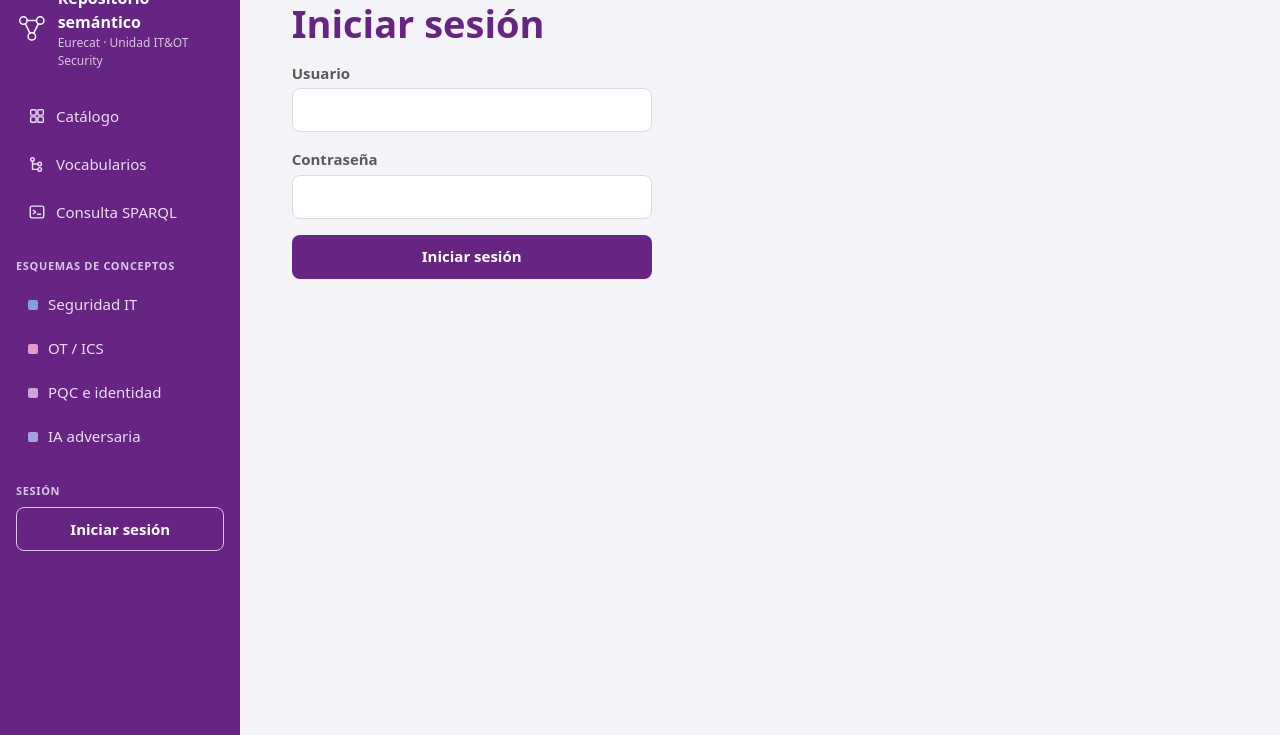
Test: Navegador SKOS · CRUD del esquema (decisión 50) › error de la edición: 422 replacement y 403 not_managed
This screenshot has width=1280, height=735.
Type "usuario-prueba" into the field labelled "Usuario" at x=472, y=110, box [292,88,652,132]
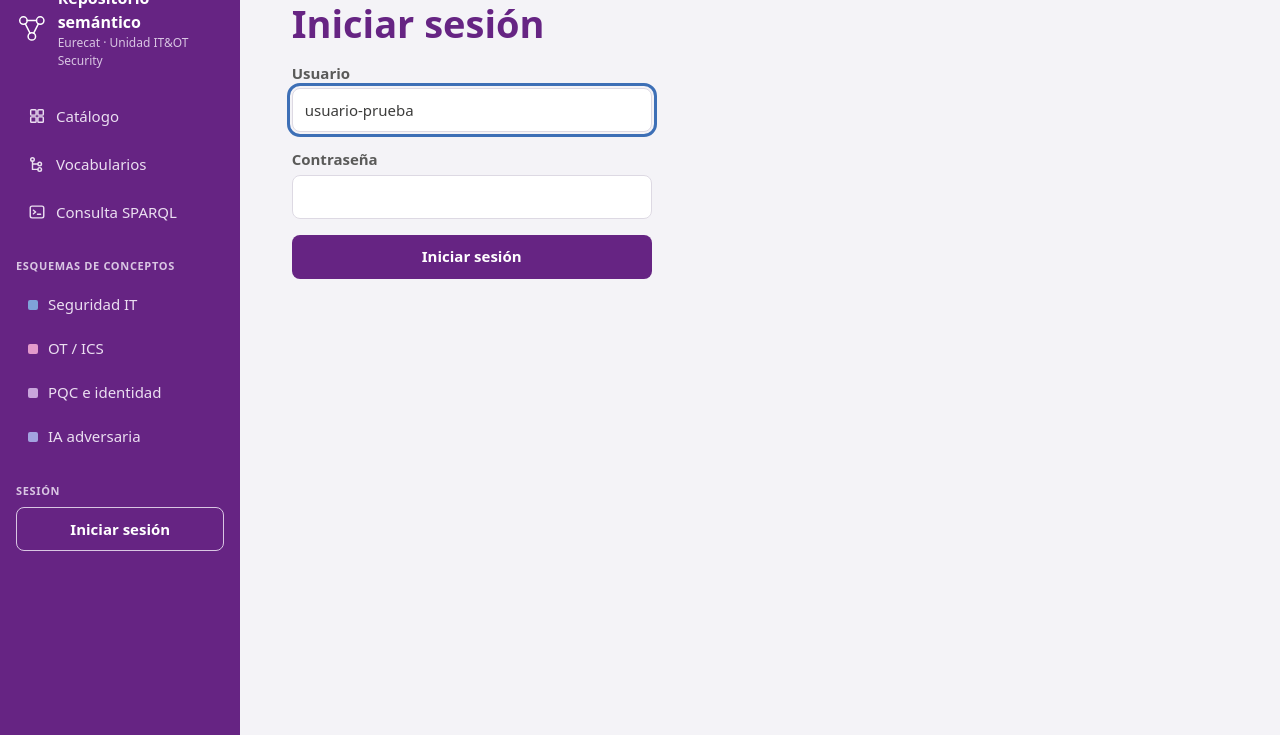
Type "contrasena-prueba" into the password field labelled "Contraseña" at x=472, y=197, box [292,175,652,219]
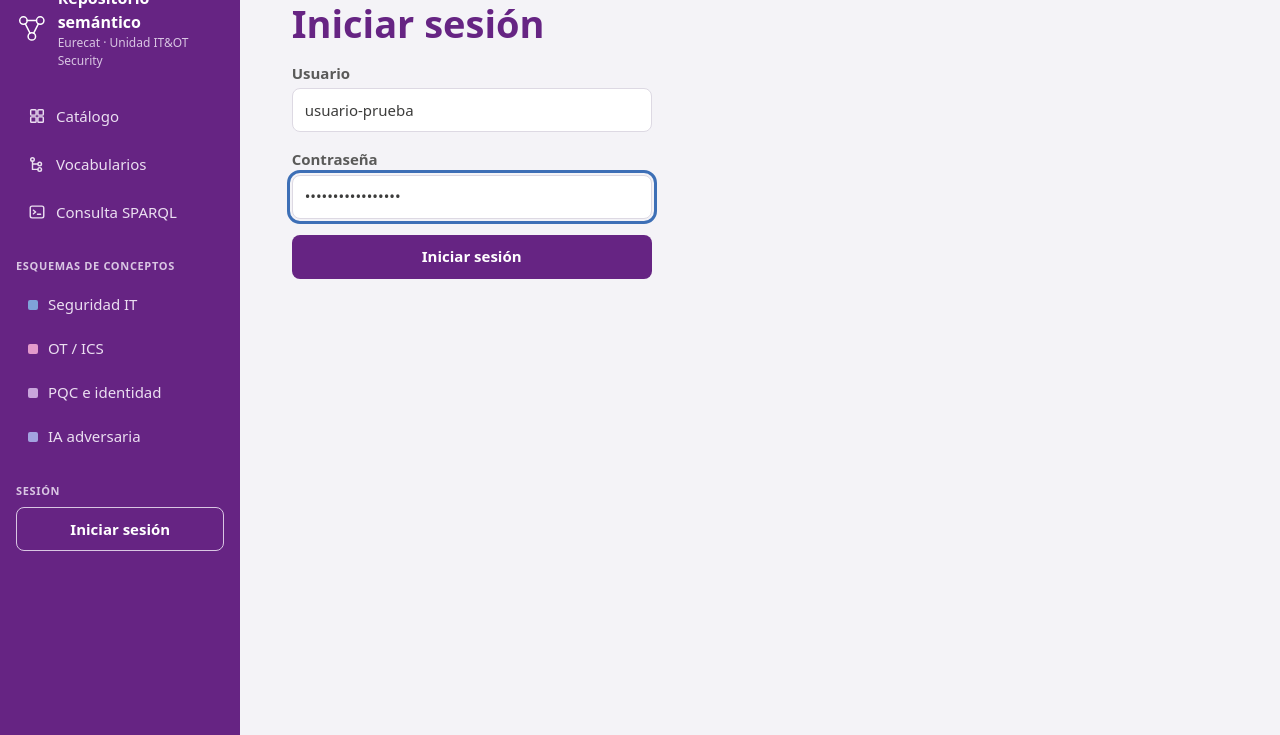
Click the button "Iniciar sesión" at x=472, y=257, box [292,235,652,279]
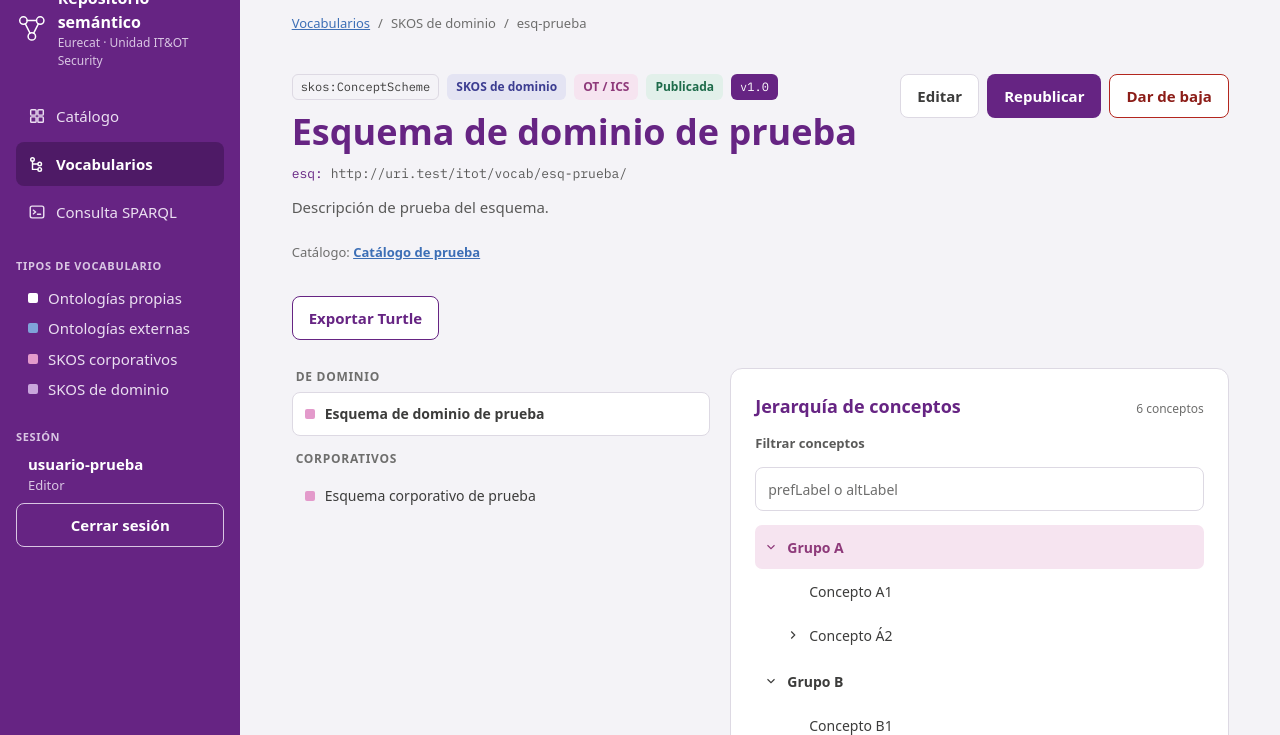
Now the button "Cerrar sesión" is shown, box [16,503,224,547]
Now the heading "Esquema de dominio de prueba" is shown, box [292,112,857,152]
Click the button "Editar" at x=940, y=96, box [900,74,979,118]
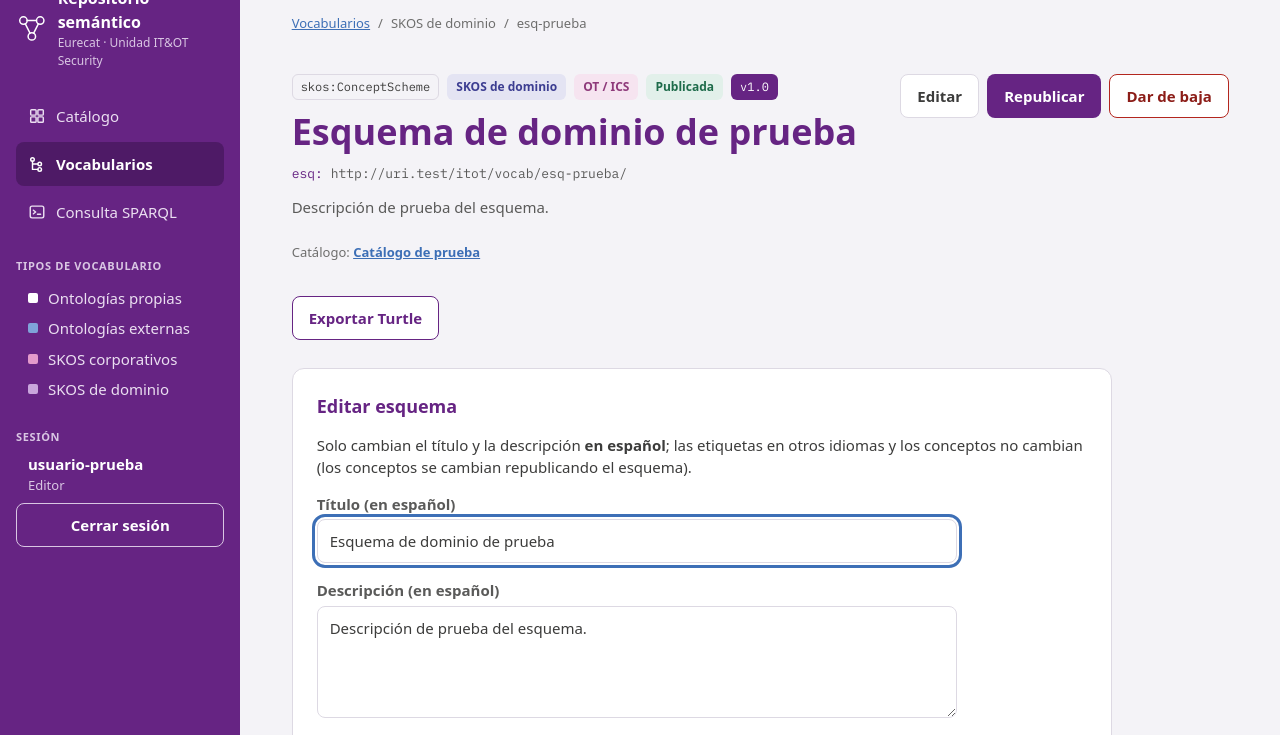
Type " 2" into the field labelled "Título (en español)" at x=637, y=541, box [317,519,957,563]
(page scrolled)
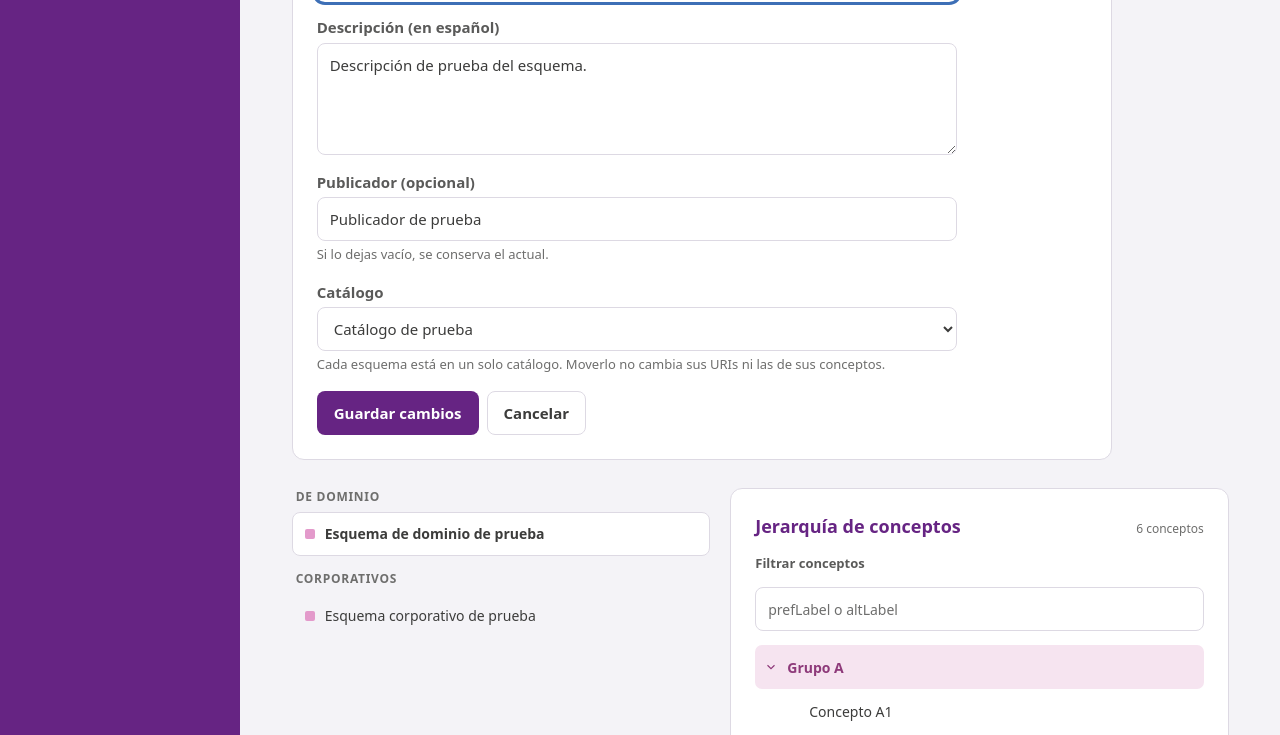
Click the button "Guardar cambios" at x=398, y=413, box [317,391,479,435]
(page scrolled)
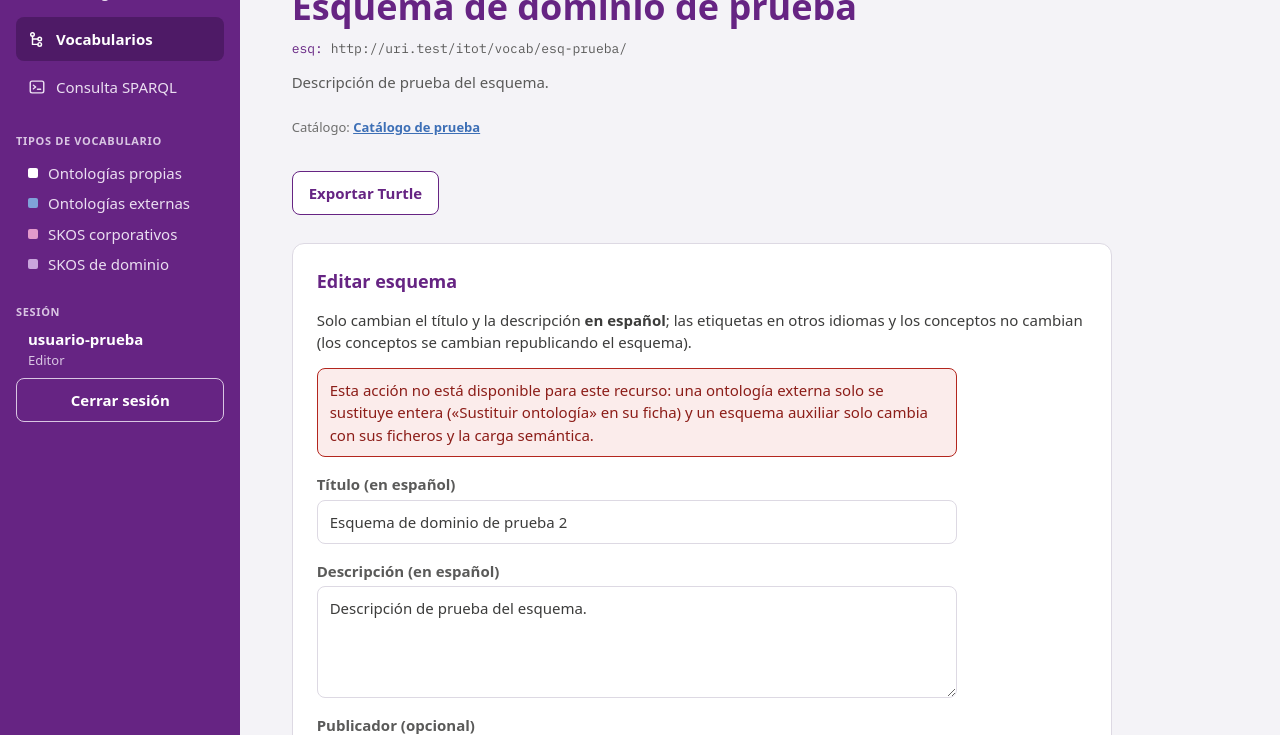
Now the message shows "Esta acción no está disponible para este recurso: una ontología externa solo se sustituye entera («Sustituir ontología» en su ficha) y un esquema auxiliar solo", box [330,380,928,445]
